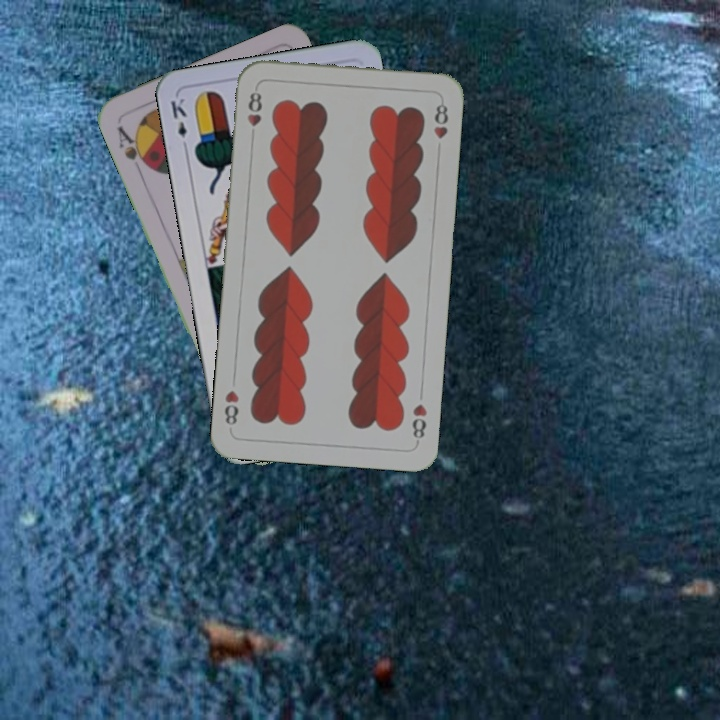EK: (166, 94, 191, 153)
H8: (408, 400, 430, 446), (243, 88, 265, 129)
SA: (113, 122, 153, 172)
